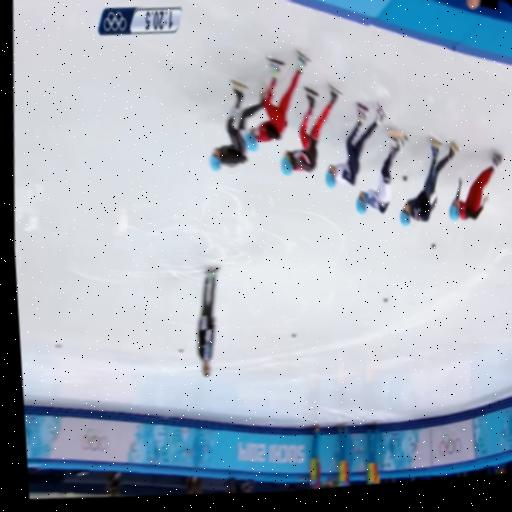Skater: (244, 51, 307, 150), (280, 84, 341, 175), (325, 103, 386, 186), (400, 138, 457, 225), (209, 80, 262, 169), (355, 130, 406, 213), (448, 153, 501, 220)
